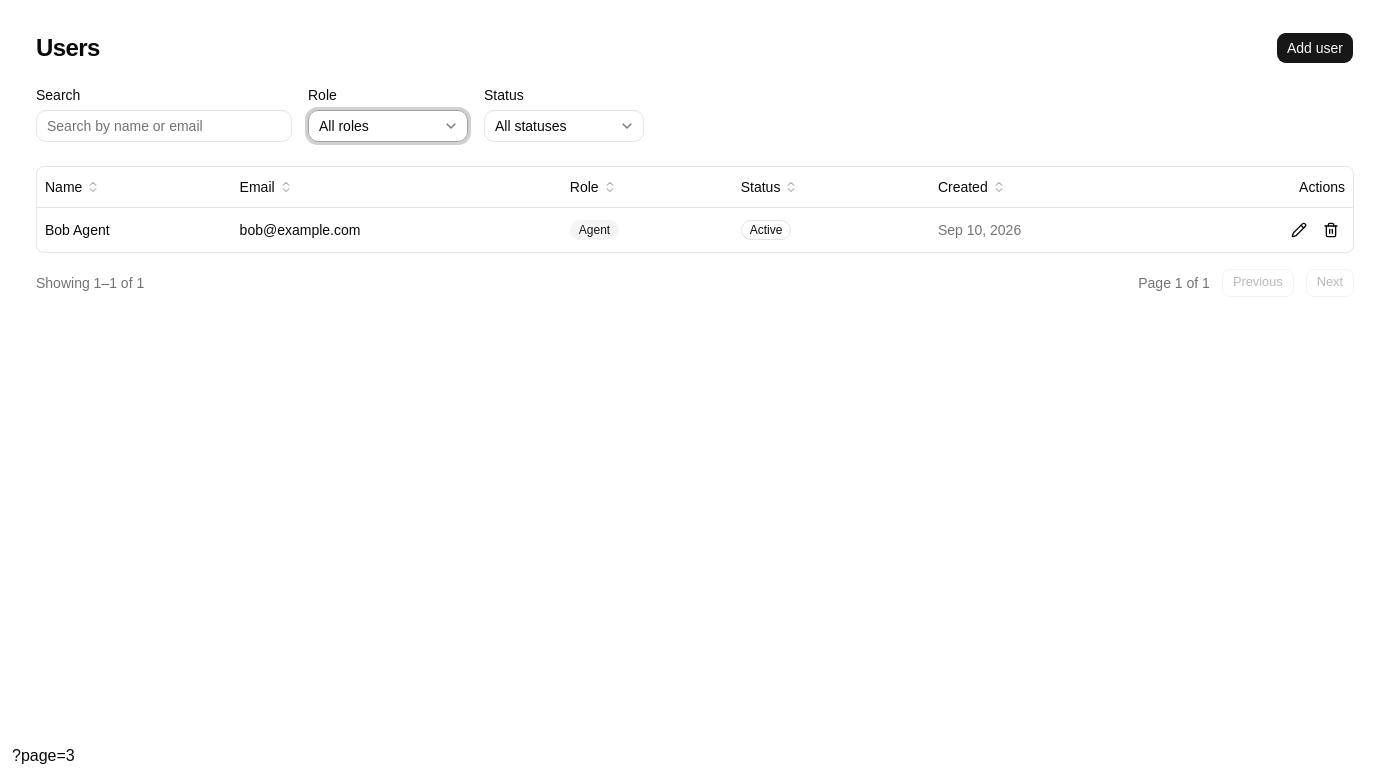
Scenario: UsersPage › filters by role through the select and drops the page
Press Arrowdown
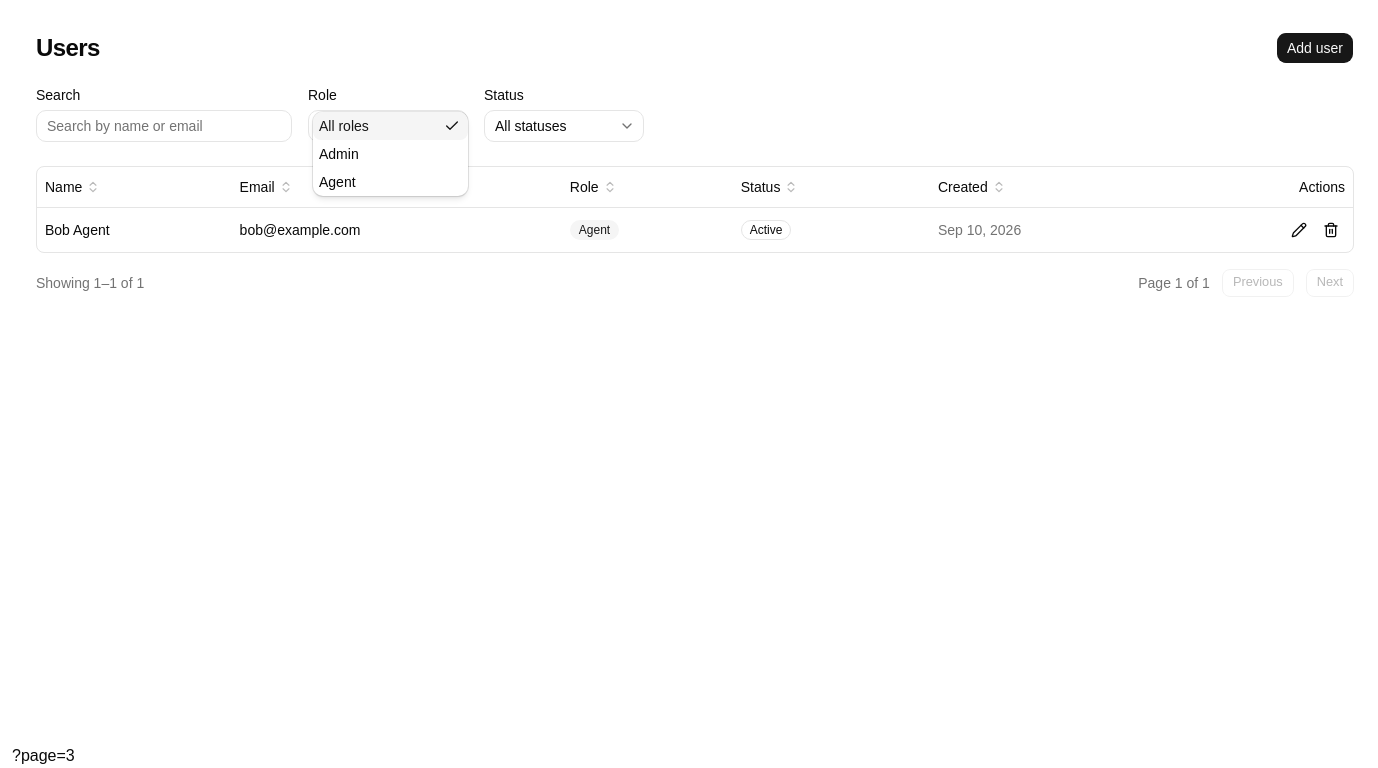
Click the option "Agent" at (337, 182), box [319,174,356,190]
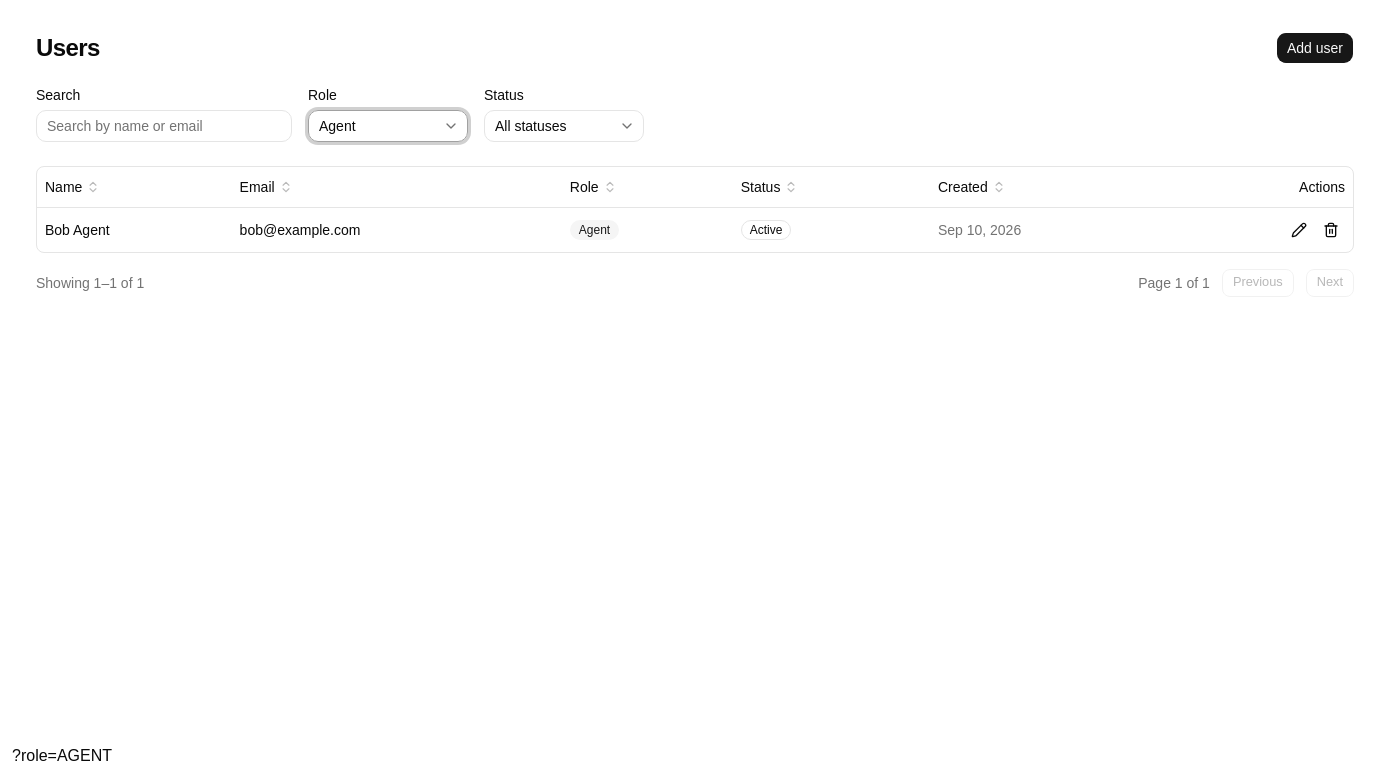
Expected: the text with test id "location-search" reads "?role=AGENT", [12,747,112,764]
